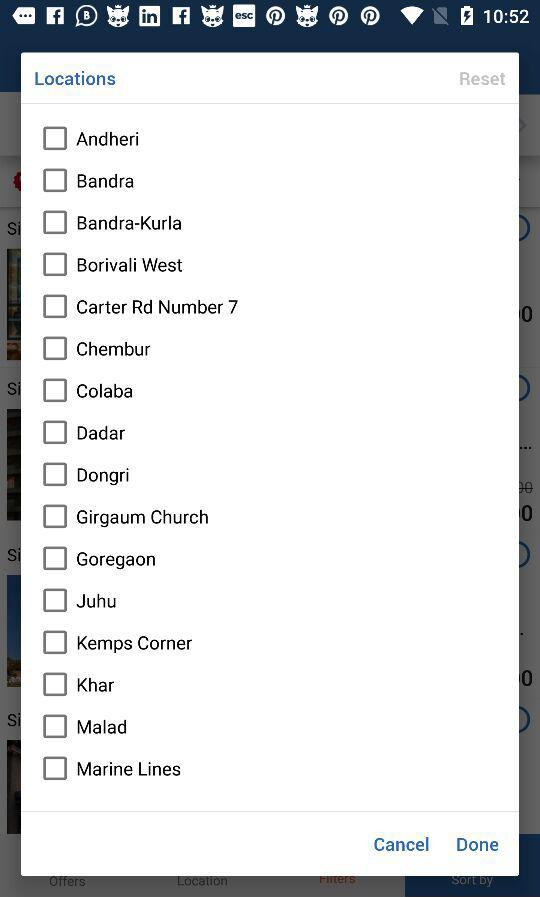CheckedTextView: (43, 294, 239, 320), (43, 504, 210, 529), (43, 630, 194, 655), (43, 210, 183, 236), (43, 755, 182, 781), (43, 252, 184, 277), (43, 546, 157, 571), (43, 336, 152, 361), (43, 126, 140, 152), (43, 168, 135, 194), (43, 378, 134, 403), (43, 713, 128, 739), (43, 462, 130, 487), (43, 420, 127, 445), (43, 671, 116, 697), (43, 588, 118, 613)
Modal: (21, 53, 520, 877)
Text: (77, 299, 239, 316), (77, 508, 210, 528), (78, 635, 194, 654), (78, 215, 183, 232), (78, 257, 184, 273), (78, 761, 182, 777), (77, 551, 157, 570), (35, 71, 117, 87), (77, 341, 152, 357), (77, 467, 130, 487), (77, 132, 140, 148), (78, 174, 135, 190), (77, 383, 134, 399), (373, 836, 430, 852), (78, 425, 127, 442), (77, 719, 128, 735), (459, 72, 506, 88), (76, 594, 118, 610), (78, 676, 116, 693), (456, 837, 499, 852)
UpperTaskBar: (1, 1, 540, 33)
